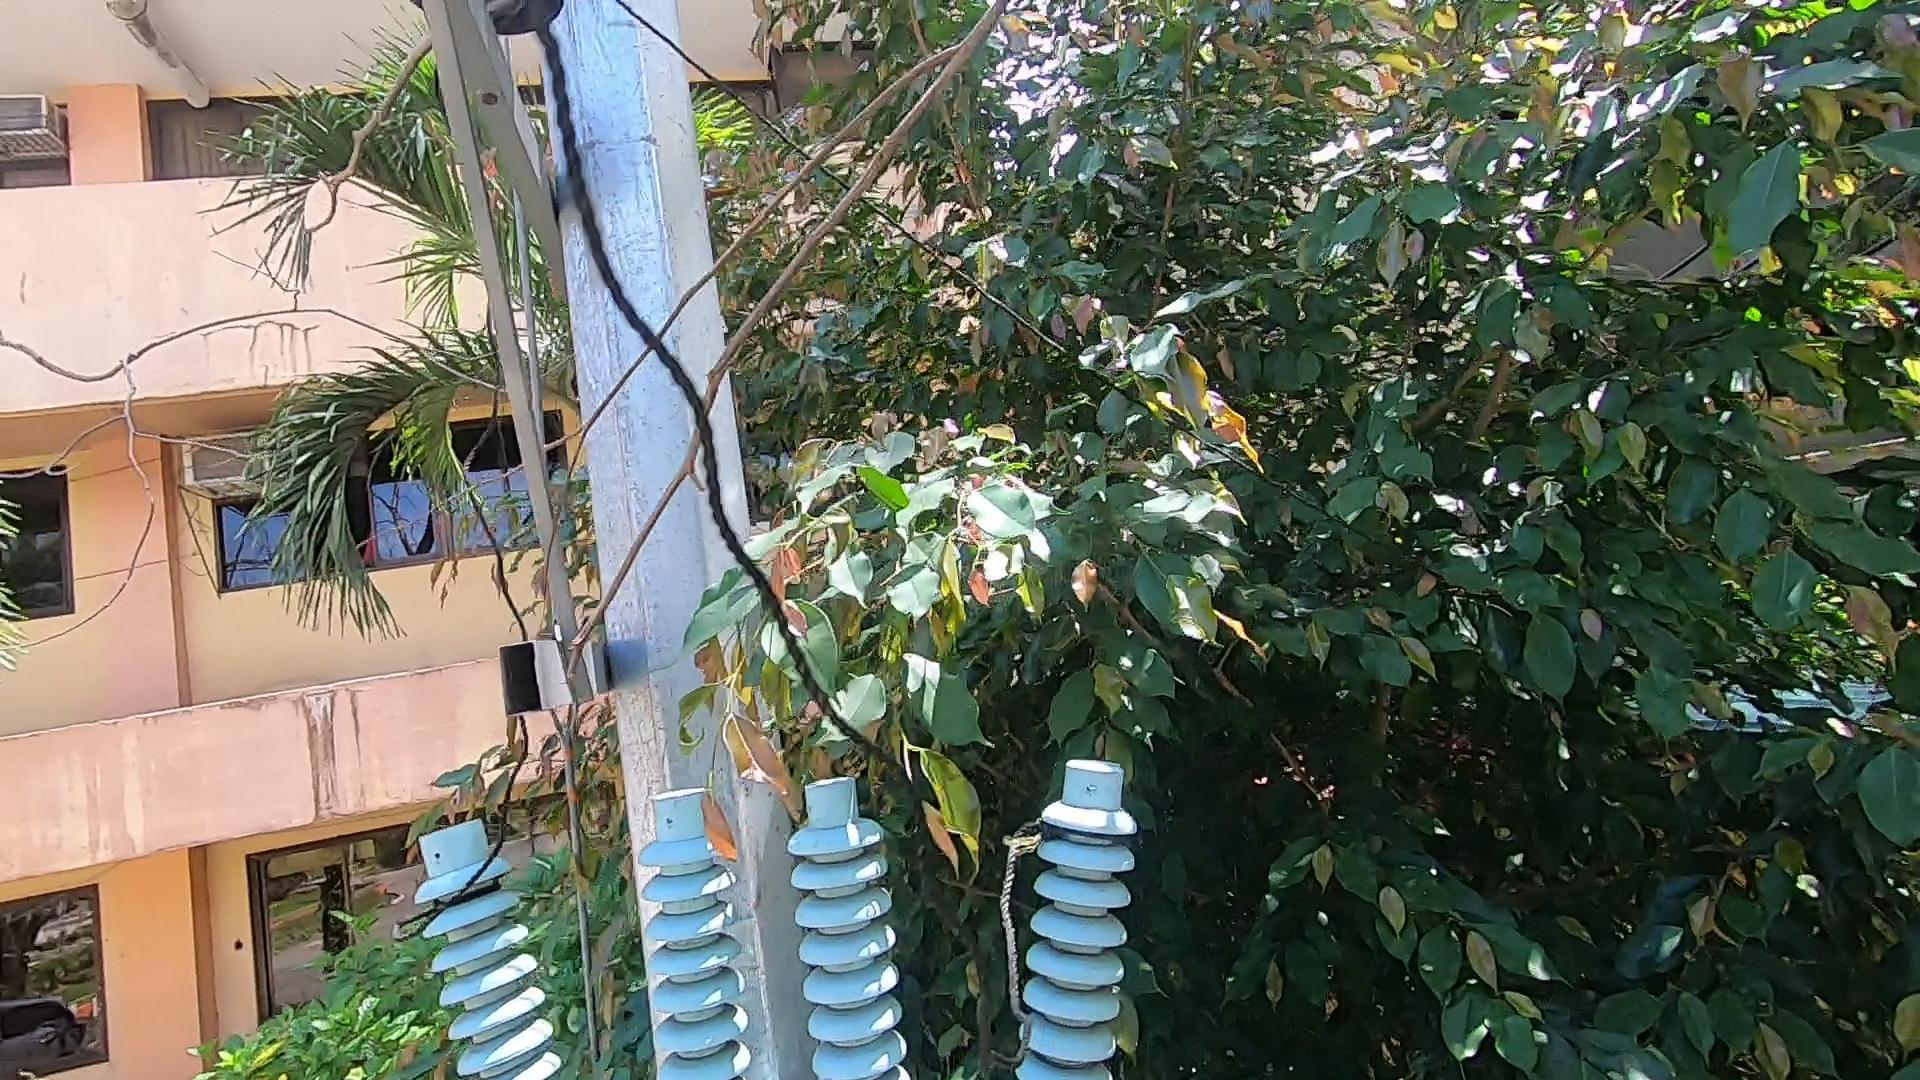branch with leaves: (669, 705, 810, 876)
tree branch: (320, 16, 1051, 694)
